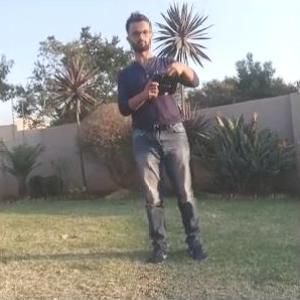follow: (114, 4, 214, 275)
